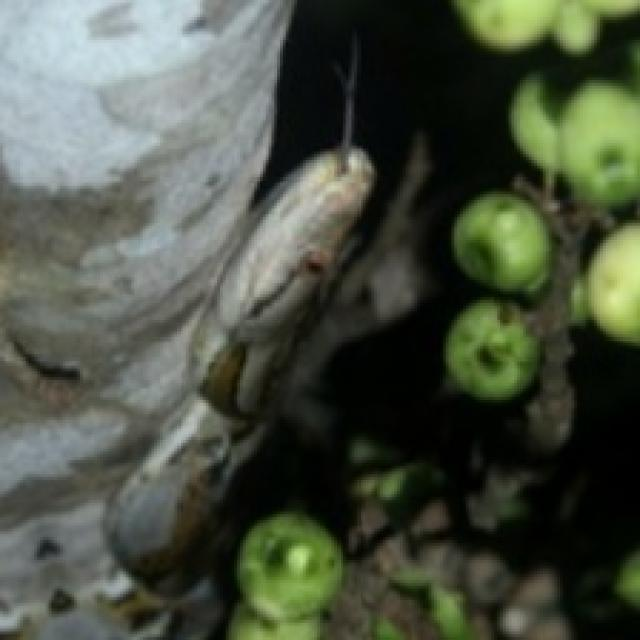reticulated python: (106, 40, 371, 577)
